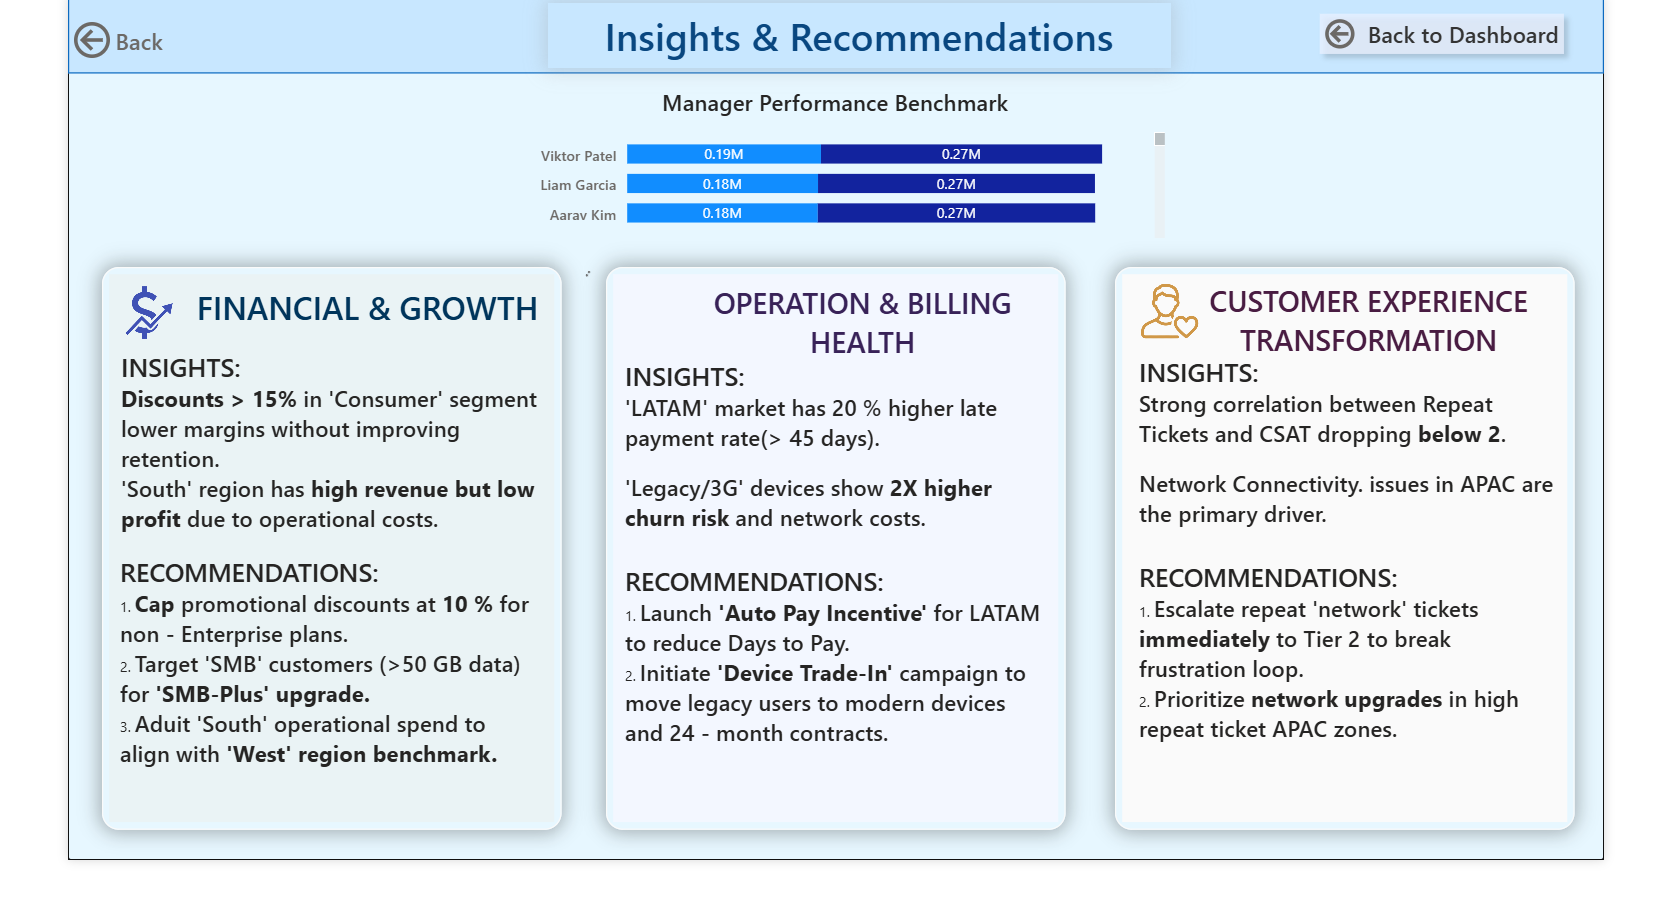

Layout of this report page (visuals, bound fields, positions):
{"tool":"powerbi","page":{"name":"Recommendations","canvas":[1280,720],"ordinal":3},"visuals":[{"type":"shape","box":[0,0.5,1280,63.8],"z":0},{"type":"textbox","box":[400,5.7,518.6,54.3],"z":1000},{"type":"barChart","title":"Manager Performance Benchmark","fields":{"Category":["Telecom_RegionalPeople.Person"],"Y":["Sum(Telecom_Usage_Fact.Profit)","Sum(Telecom_Usage_Fact.TotalCharge)"]},"box":[360,75.7,558.6,131.4],"z":2000},{"type":"shape","box":[28.6,225.7,382.9,468.6],"z":3000},{"type":"shape","box":[448.6,225.7,382.9,468.6],"z":4000},{"type":"shape","box":[872.9,225.7,382.9,468.6],"z":5000},{"type":"image","box":[0,225.7,131.4,97.1],"z":6000},{"type":"image","box":[427.1,225.7,105.7,85.7],"z":7000},{"type":"image","box":[870,224.3,97.1,87.1],"z":8000},{"type":"textbox","box":[97.1,235.7,304.3,64.3],"z":9000},{"type":"textbox","box":[38.8,288.8,361.2,171.2],"z":10000},{"type":"textbox","box":[38.6,460,361.4,220],"z":11000},{"type":"textbox","box":[510,234.3,304.3,81.4],"z":12000},{"type":"textbox","box":[459,296.5,361.2,171.2],"z":13000},{"type":"textbox","box":[458.9,467.7,361.4,220],"z":14000},{"type":"textbox","box":[931.4,232.9,304.3,78.6],"z":15000},{"type":"textbox","box":[887.6,293,361.2,171.2],"z":16000},{"type":"textbox","box":[887.4,464.3,361.4,220],"z":17000},{"type":"actionButton","box":[1034.3,5.7,221.4,51.4],"z":18000},{"type":"actionButton","box":[0,16.9,83.1,40],"z":19000}]}

Visuals, with their boxes in screenshot pixels (x1, y1, x2, y2), scaled from the page's 1280x720 canvas onto the 1671x918 screenshot:
shape: left=0, top=1, right=1670, bottom=82
textbox: left=522, top=7, right=1199, bottom=76
"Manager Performance Benchmark" barChart: left=470, top=97, right=1199, bottom=264
shape: left=37, top=288, right=537, bottom=885
shape: left=586, top=288, right=1085, bottom=885
shape: left=1140, top=288, right=1639, bottom=885
image: left=0, top=288, right=172, bottom=412
image: left=558, top=288, right=696, bottom=397
image: left=1136, top=286, right=1263, bottom=397
textbox: left=127, top=301, right=524, bottom=382
textbox: left=51, top=368, right=522, bottom=586
textbox: left=50, top=586, right=522, bottom=867
textbox: left=666, top=299, right=1063, bottom=403
textbox: left=599, top=378, right=1071, bottom=596
textbox: left=599, top=596, right=1071, bottom=877
textbox: left=1216, top=297, right=1613, bottom=397
textbox: left=1159, top=374, right=1630, bottom=592
textbox: left=1158, top=592, right=1630, bottom=872
actionButton: left=1350, top=7, right=1639, bottom=73
actionButton: left=0, top=22, right=108, bottom=73
